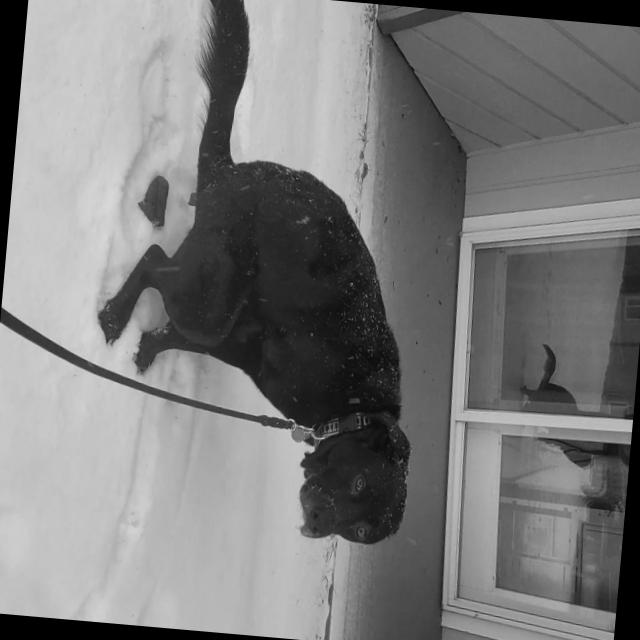squatting: (73, 0, 457, 559)
